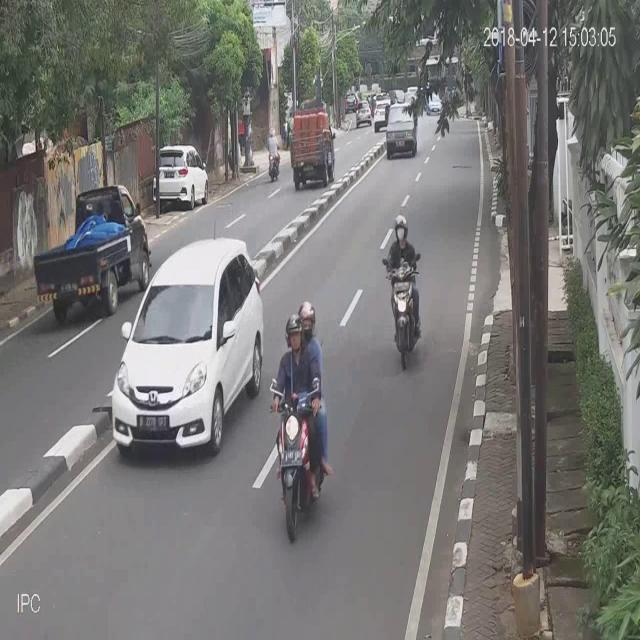bus: (268, 300, 332, 540), (382, 210, 424, 368), (264, 121, 282, 184)
motorcycle: (111, 232, 263, 460), (151, 138, 209, 210), (386, 102, 418, 158)
truck: (29, 180, 149, 313), (290, 106, 335, 188)
